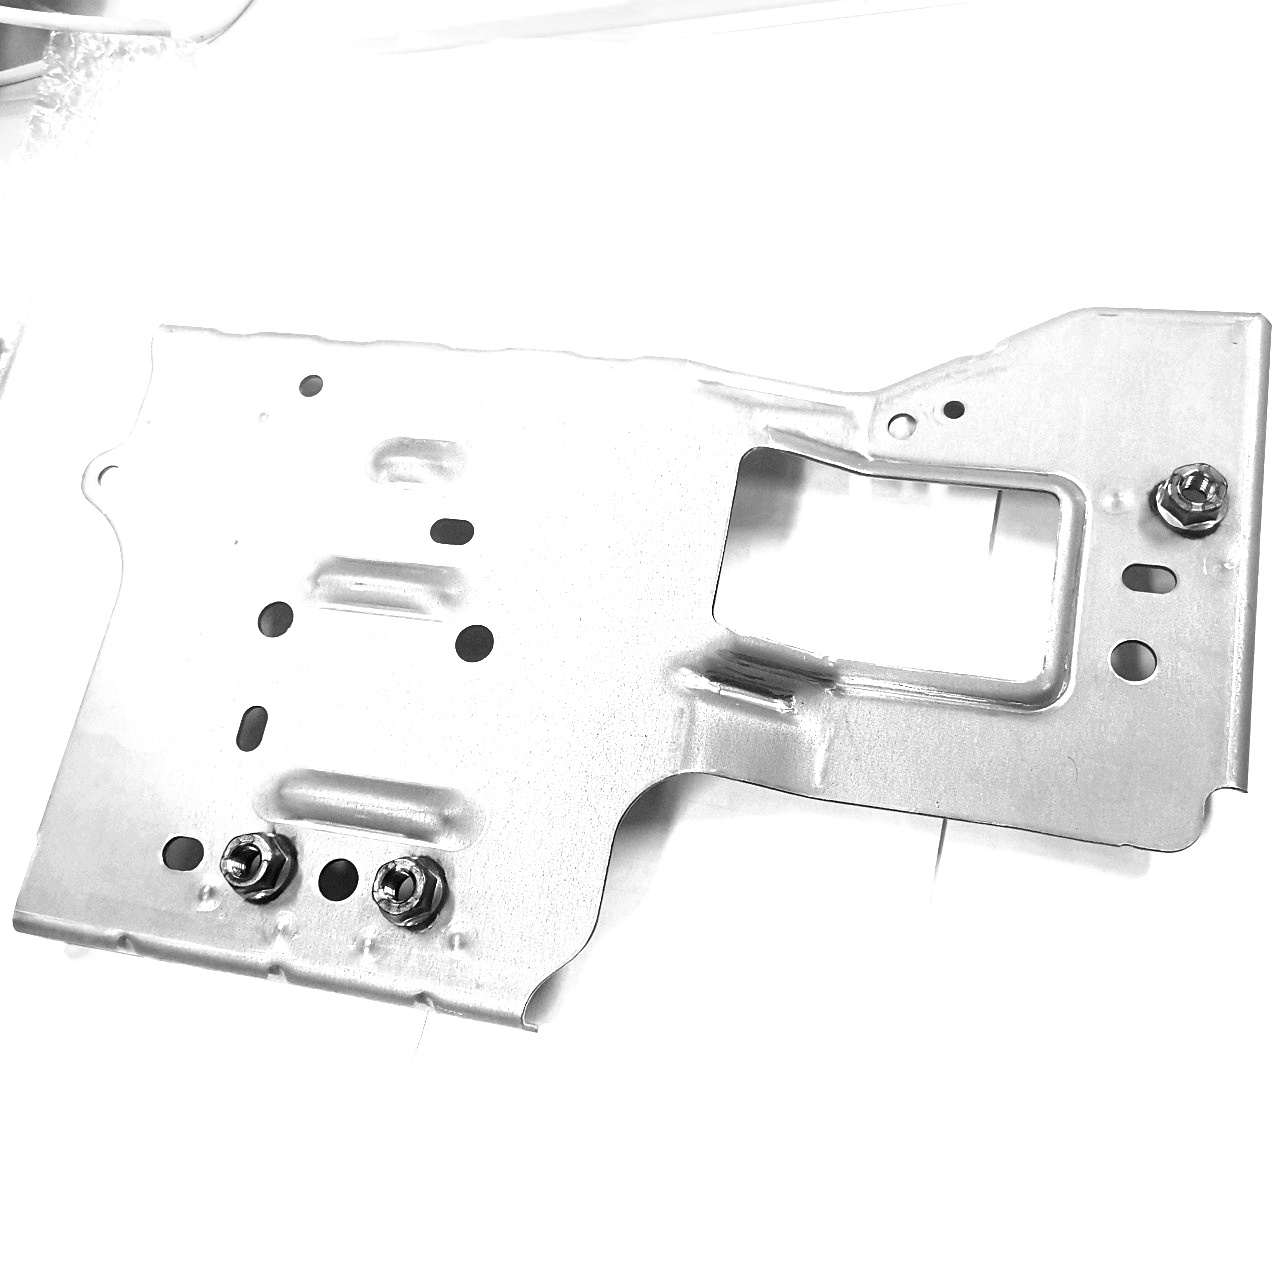dog: (1146, 456, 1232, 542), (216, 824, 302, 908), (366, 850, 452, 934)
